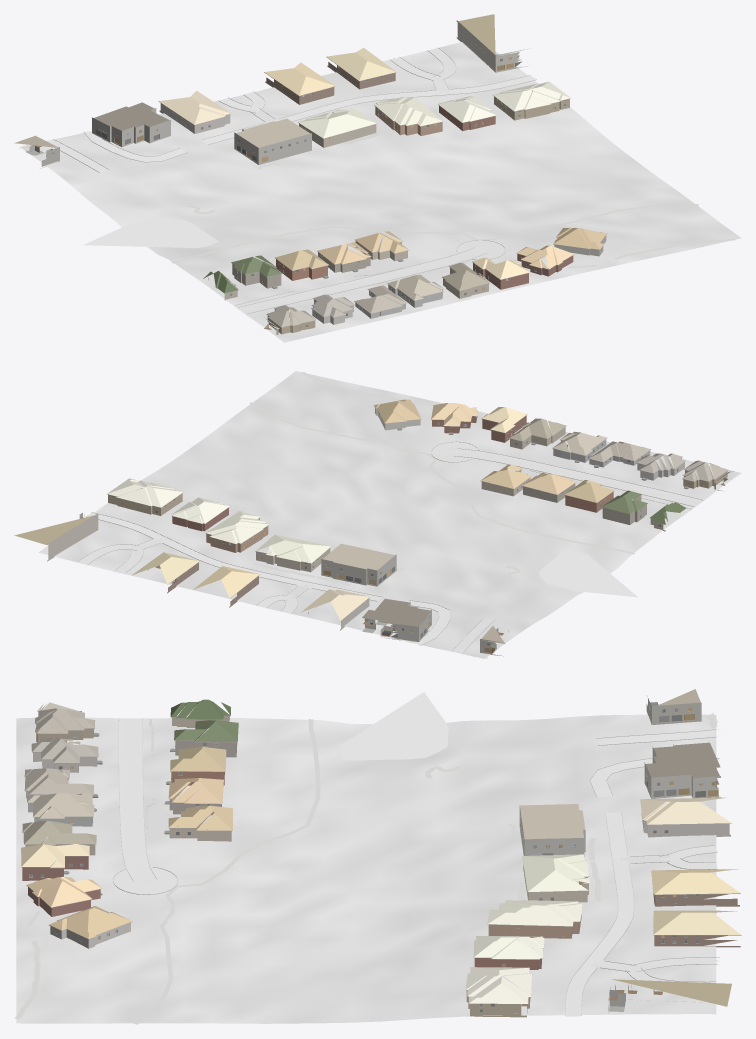
3 views of the same model, one above another, from view 1: azimuth 30°, elevation 25°; view 2: azimuth 150°, elevation 25°; view 3: azimuth 270°, elevation 25° (orthographic). The views are drawn at different scales.
Parts seen in each view (by area): view 1: ground, roof, concrete, wall, wall_com, roof_flat, water, walk, curb, detail, wall_stucco, wall_stone (+1 smaller); view 2: ground, roof, concrete, wall, roof_flat, wall_com, water, walk, curb, wall_stucco, detail, wall_stone (+1 smaller); view 3: ground, roof, concrete, wall, roof_flat, water, walk, wall_com, wall_stone, detail, curb, wall_stucco (+2 smaller).
Boxes of the visible parts, x1=… form: ground: x1=20, y1=42, x2=741, y2=342; roof: x1=159, y1=47, x2=606, y2=328; concrete: x1=47, y1=48, x2=535, y2=313; wall: x1=224, y1=62, x2=573, y2=334; wall_com: x1=40, y1=20, x2=527, y2=168; roof_flat: x1=14, y1=14, x2=495, y2=147; water: x1=83, y1=218, x2=219, y2=247; walk: x1=18, y1=109, x2=735, y2=305; curb: x1=53, y1=48, x2=536, y2=313; detail: x1=25, y1=43, x2=607, y2=330; wall_stucco: x1=299, y1=123, x2=442, y2=318; wall_stone: x1=159, y1=103, x2=606, y2=324; ground: x1=39, y1=371, x2=741, y2=658; roof: x1=107, y1=399, x2=733, y2=620; concrete: x1=77, y1=442, x2=702, y2=652; wall: x1=108, y1=415, x2=727, y2=607; roof_flat: x1=14, y1=515, x2=505, y2=644; wall_com: x1=47, y1=513, x2=503, y2=656; water: x1=538, y1=550, x2=637, y2=597; walk: x1=202, y1=372, x2=691, y2=658; curb: x1=77, y1=441, x2=702, y2=654; wall_stucco: x1=256, y1=439, x2=650, y2=572; detail: x1=84, y1=406, x2=728, y2=653; wall_stone: x1=340, y1=408, x2=684, y2=630; ground: x1=16, y1=714, x2=716, y2=1023; roof: x1=21, y1=699, x2=740, y2=1003; concrete: x1=113, y1=718, x2=719, y2=1016; wall: x1=22, y1=710, x2=740, y2=1017; roof_flat: x1=520, y1=689, x2=731, y2=1006; water: x1=338, y1=692, x2=448, y2=760; walk: x1=14, y1=713, x2=717, y2=1024; wall_com: x1=519, y1=696, x2=720, y2=856; wall_stone: x1=33, y1=752, x2=730, y2=948; detail: x1=21, y1=705, x2=741, y2=1013; curb: x1=113, y1=718, x2=719, y2=1015; wall_stucco: x1=26, y1=777, x2=588, y2=902.
Bounding box in the file's own units: 288 × 14.26 × 260.
